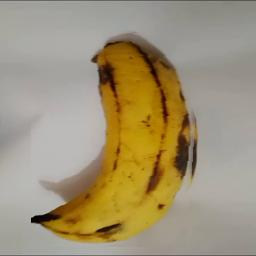Banana Semifresh: (31, 31, 201, 247)
